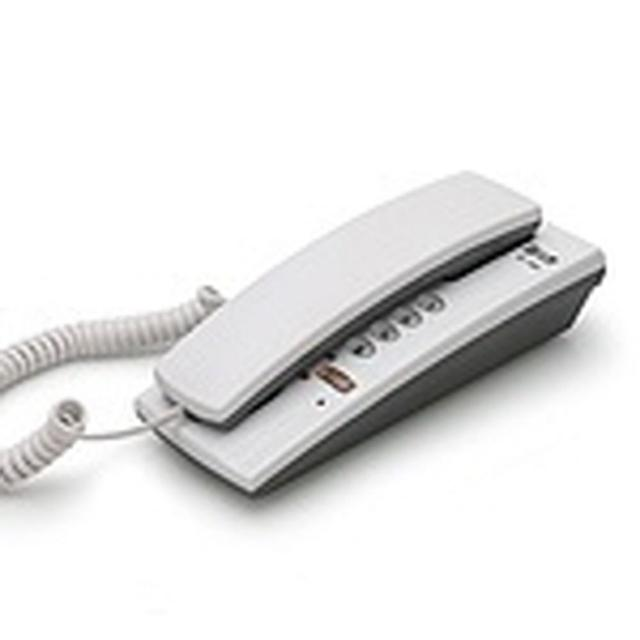Telephone-Set: (136, 168, 606, 504)
